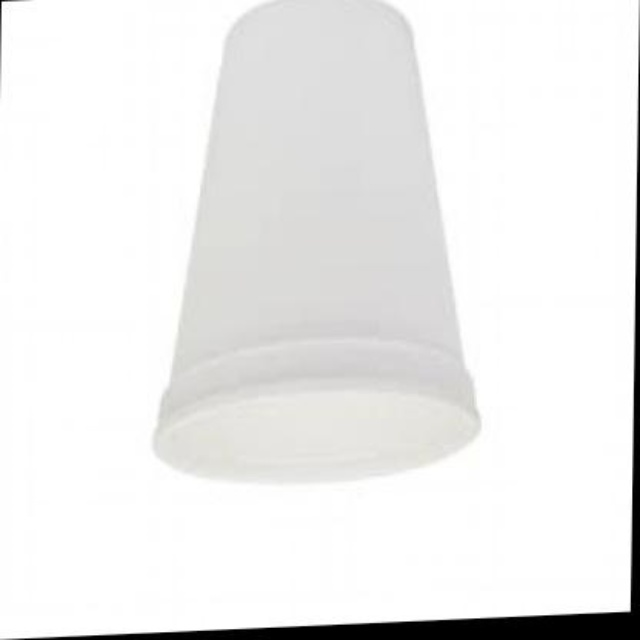trash: (154, 0, 478, 480)
